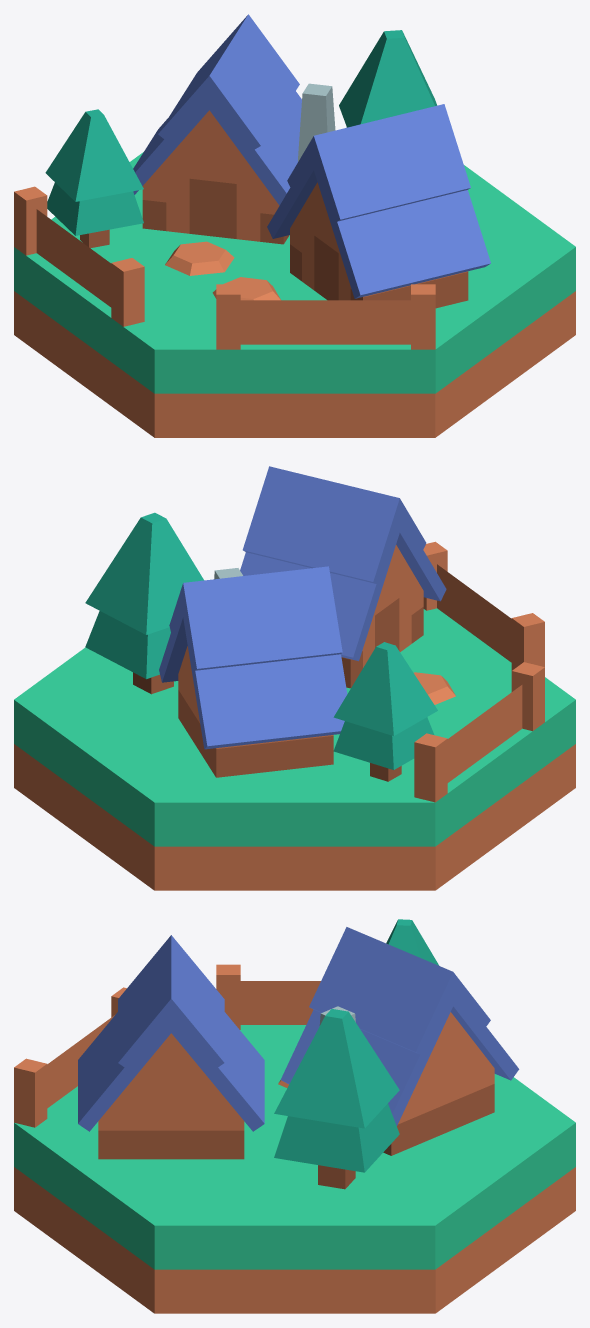
The model's file is building_village.fbx.
3 renders of one model, top to bottom at view 1: azimuth 30°, elevation 25°; view 2: azimuth 150°, elevation 25°; view 3: azimuth 270°, elevation 25°, orthographic.
Parts seen in each view (by area): view 1: building_village, building (×2), fence (×2), tree (×2), Group (×2), chimney; view 2: building_village, building (×2), tree (×2), fence (×2), Group; view 3: building_village, building (×2), tree (×2), fence (×2).
Boxes of the visible parts, box(x1,y1,x2,y2) form: building_village: box(14, 152, 575, 437); building (×2): box(133, 14, 490, 308); fence (×2): box(14, 186, 435, 349); tree (×2): box(45, 30, 437, 248); Group (×2): box(165, 241, 280, 300); chimney: box(298, 83, 335, 161); building_village: box(14, 608, 575, 890); building (×2): box(159, 466, 446, 777); tree (×2): box(85, 512, 437, 781); fence (×2): box(414, 541, 544, 802); Group: box(414, 672, 455, 704); building_village: box(14, 1025, 575, 1313); building (×2): box(78, 927, 519, 1159); tree (×2): box(274, 919, 439, 1189); fence (×2): box(14, 964, 320, 1127).
Size of the model in its own units: 10 by 5.8 by 11.55.
